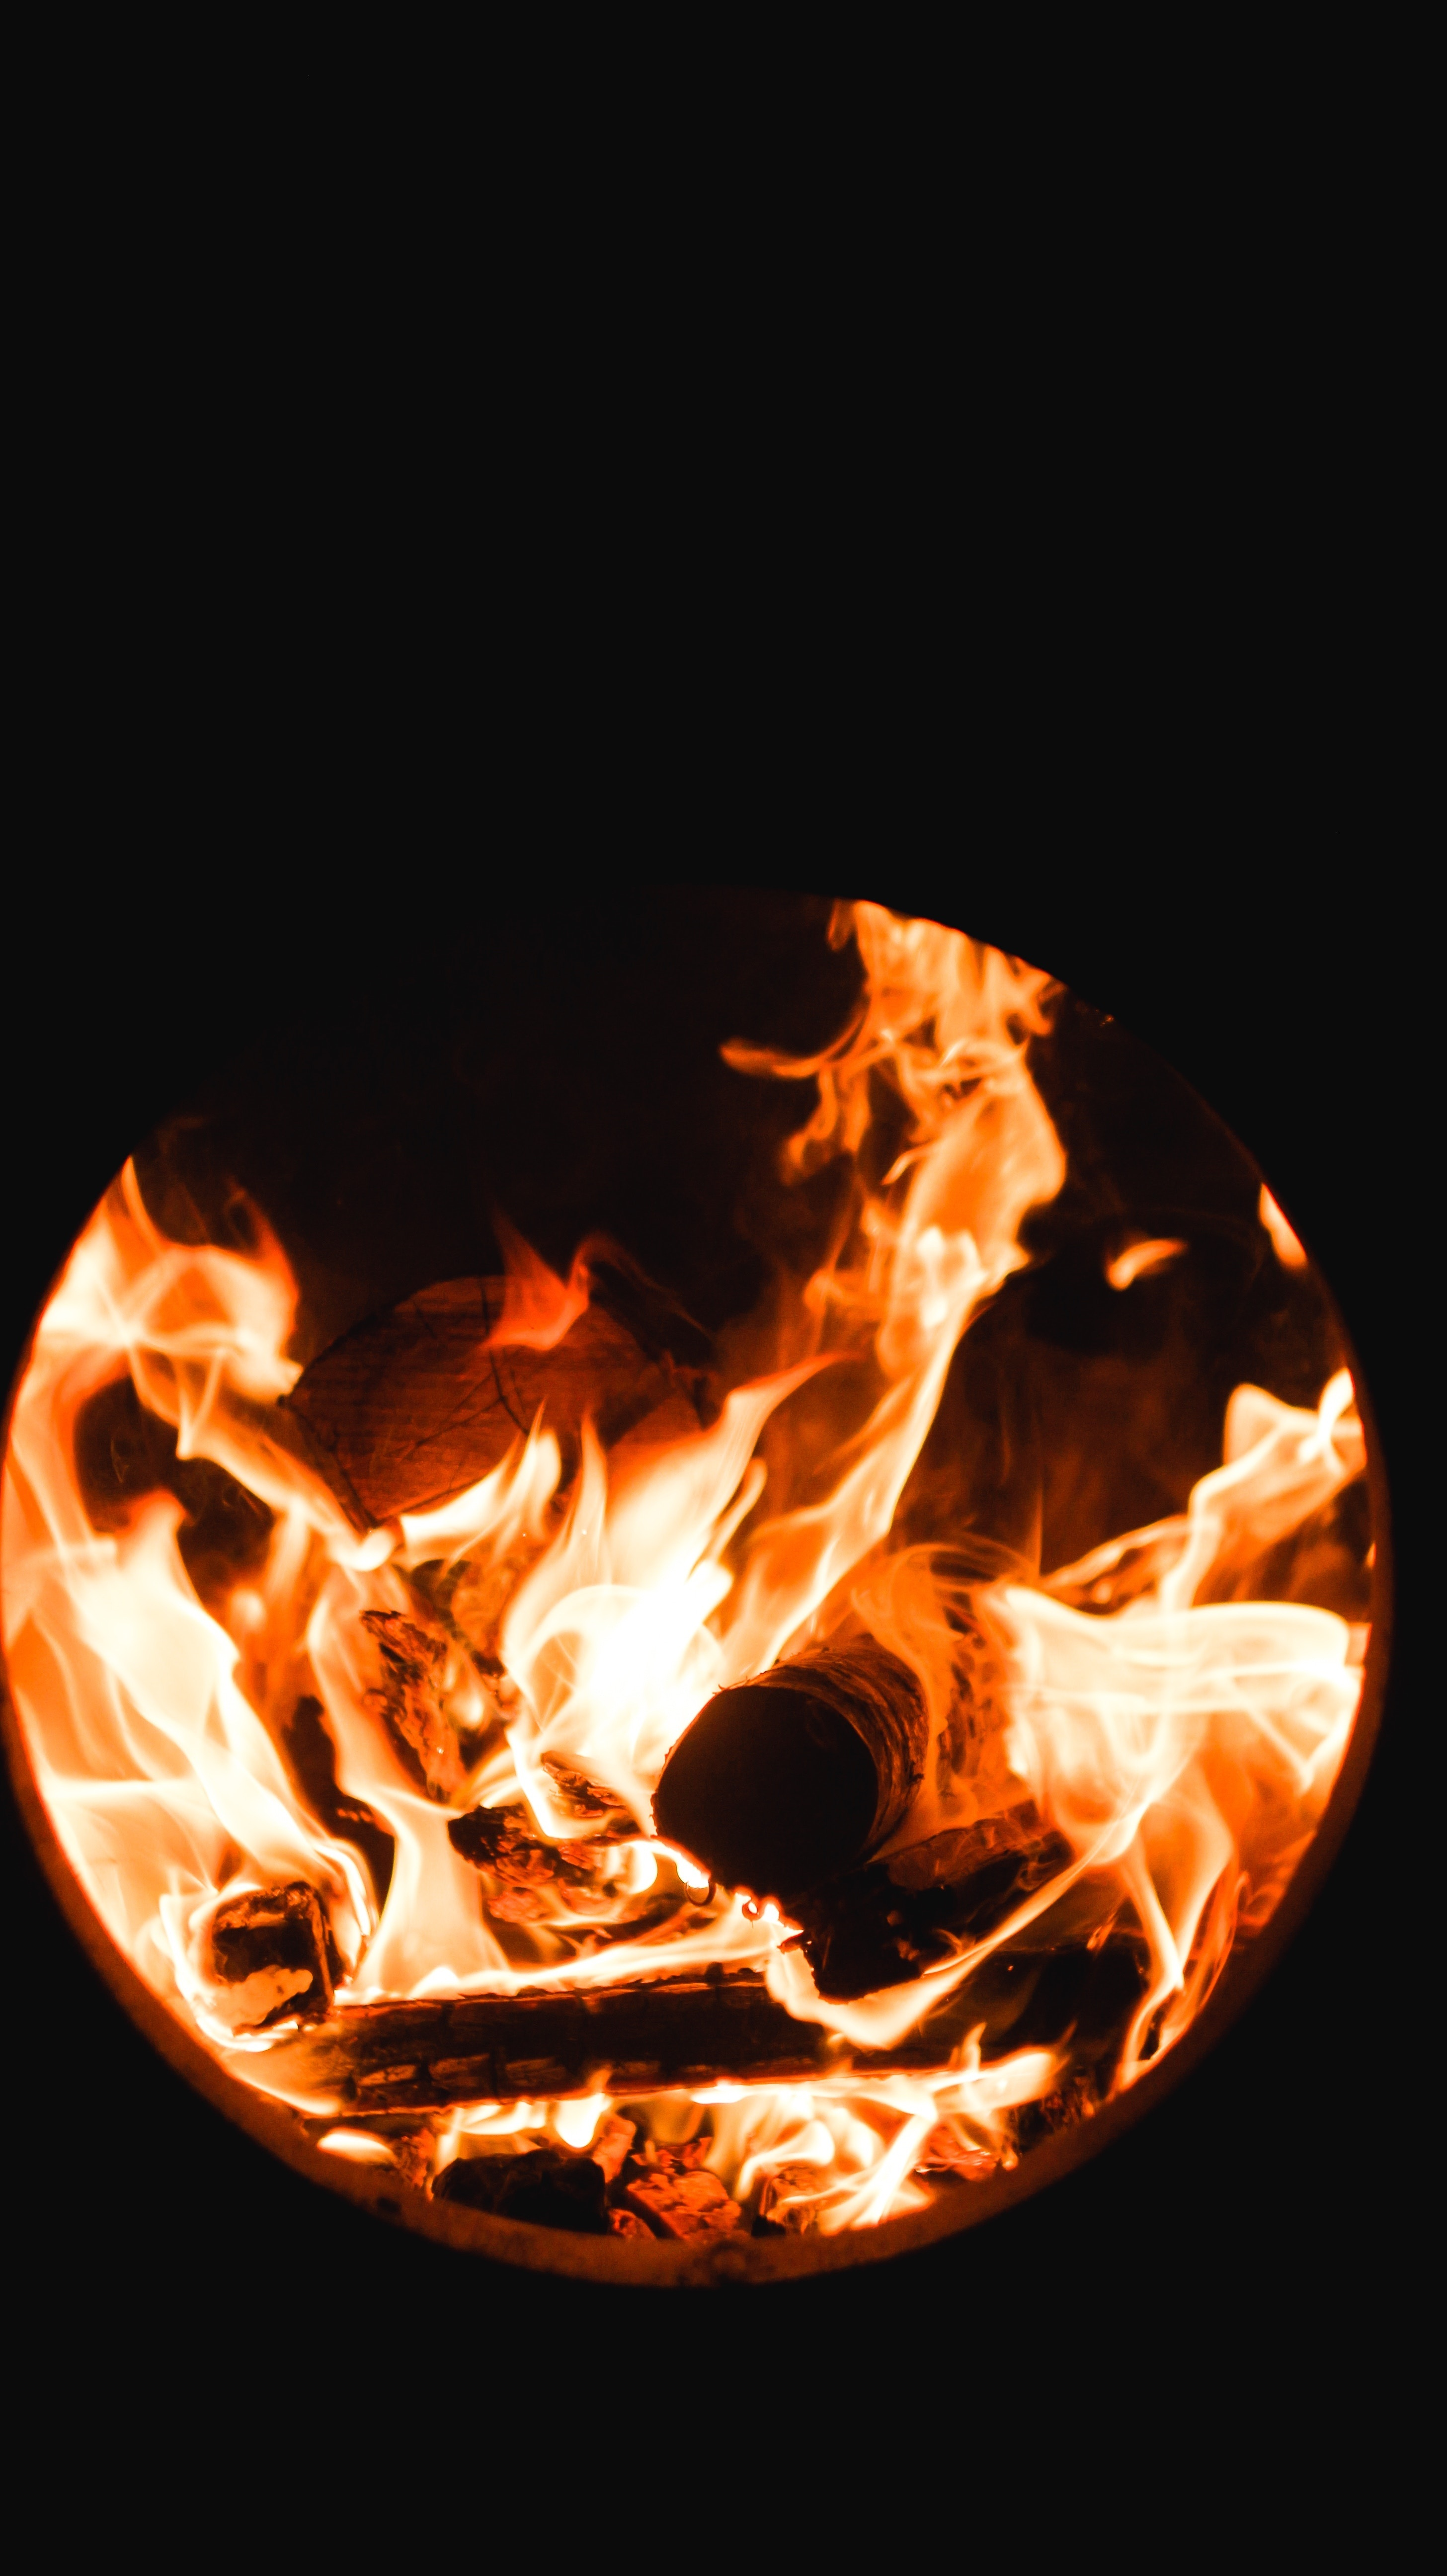fire: (0, 869, 1433, 2291)
